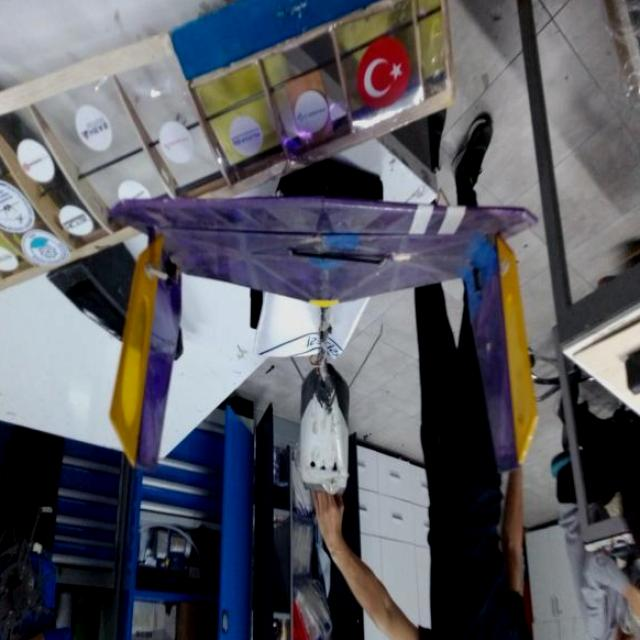plane: (0, 0, 457, 363), (101, 185, 540, 492)
